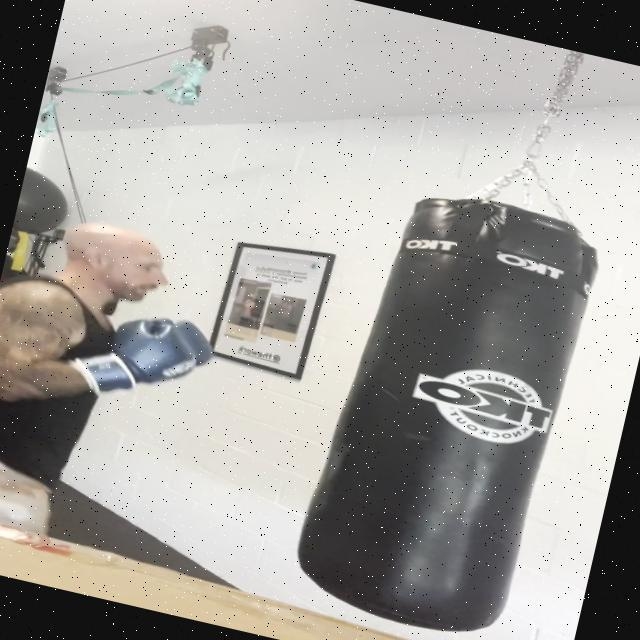bag: (256, 169, 623, 640)
no punch: (0, 196, 262, 448)
